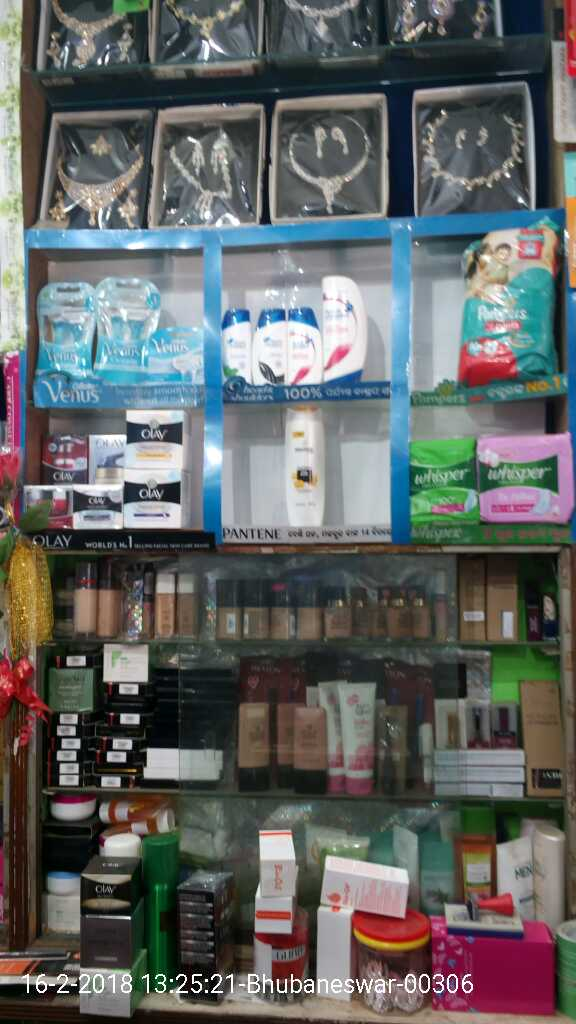venus: (36, 277, 98, 379), (98, 277, 143, 379), (143, 324, 203, 379)
